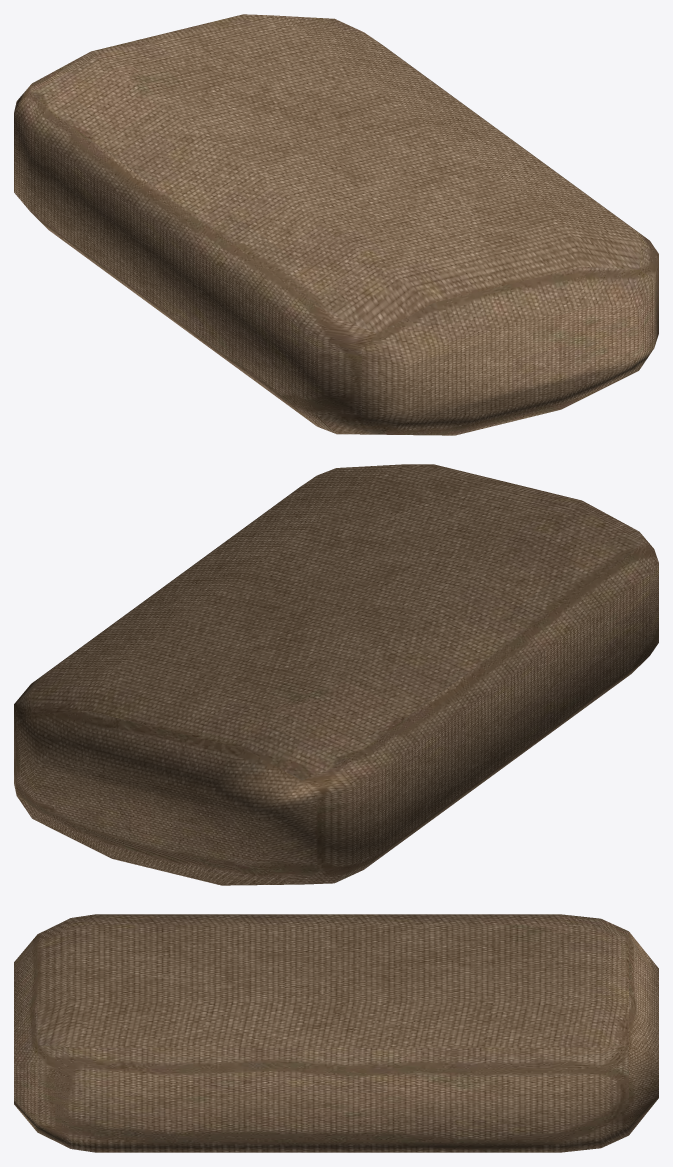
File: sandbag.glb
3 renders of one model, top to bottom at view 1: azimuth 30°, elevation 25°; view 2: azimuth 150°, elevation 25°; view 3: azimuth 270°, elevation 25°, orthographic. The views are drawn at different scales.
Parts seen in each view (by area): view 1: Sand_Bag; view 2: Sand_Bag; view 3: Sand_Bag.
Boxes of the visible parts, x1,y1,x2,y2 form: Sand_Bag: (14, 14, 658, 435); Sand_Bag: (14, 464, 658, 885); Sand_Bag: (14, 914, 658, 1152).
Bounding box in the file's own units: 0.4021 × 0.1815 × 0.7382.
Materials: 1 (1 with a texture image).
